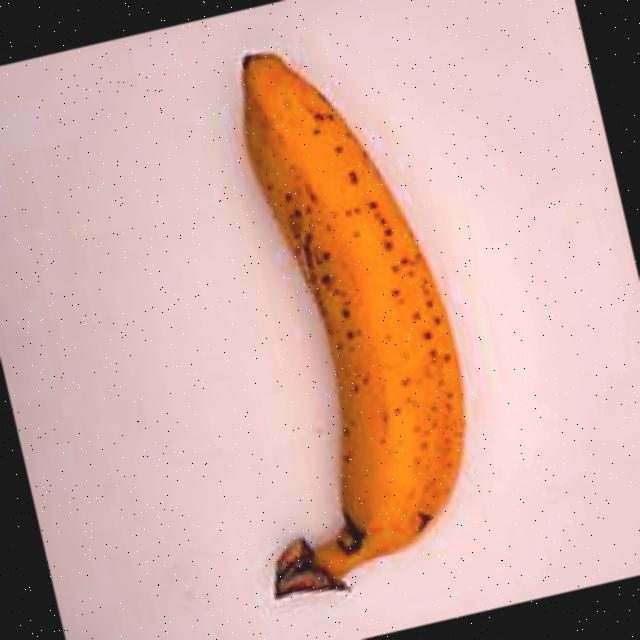Overripe: (112, 0, 531, 628)
